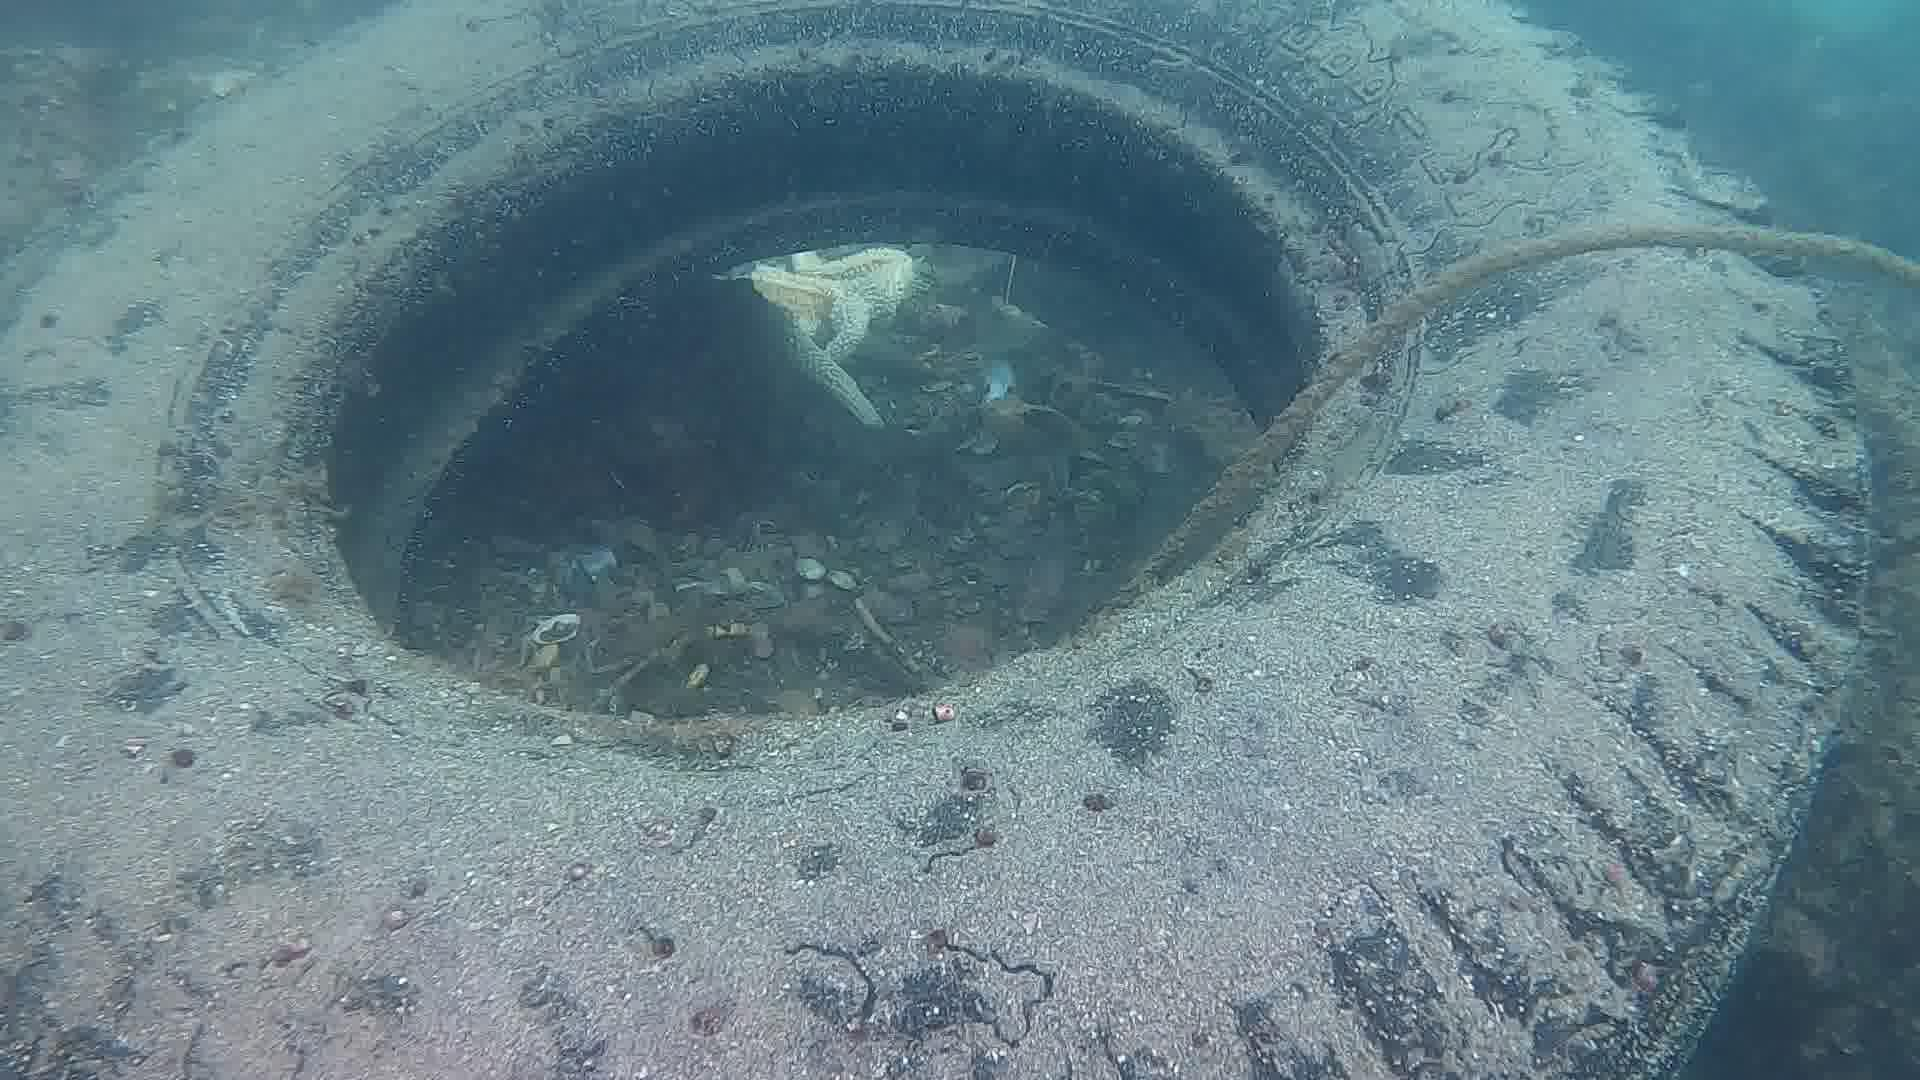rope: (1077, 214, 1919, 608)
